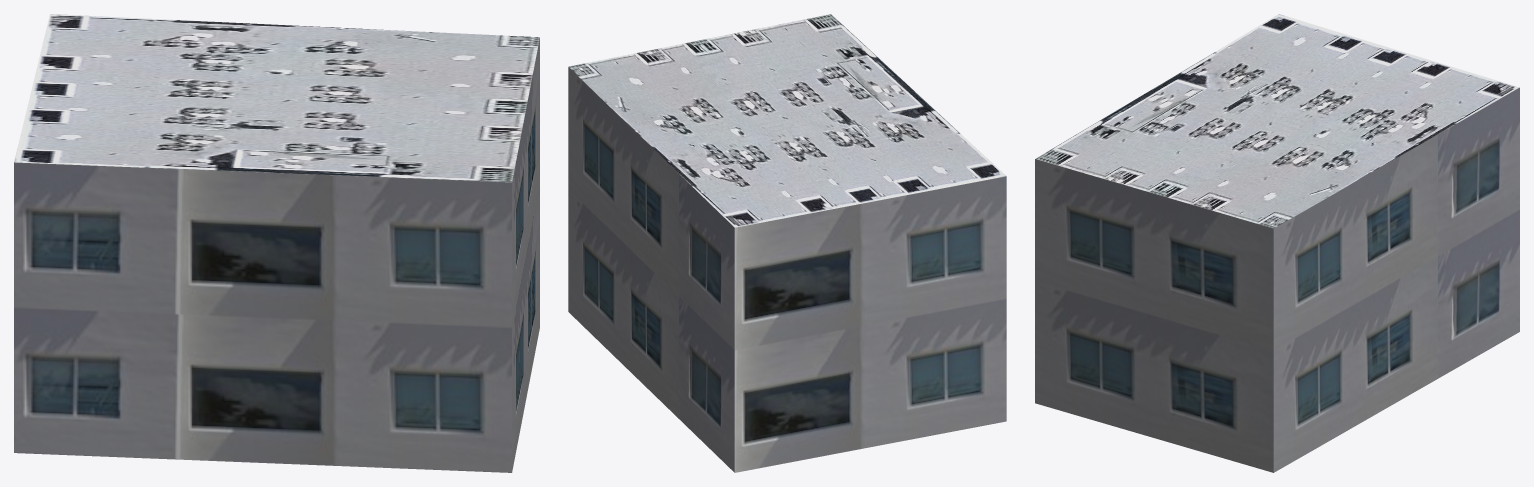
File: ResTex__3907.fbx
3 views of the same model, side by side, from view 1: azimuth 30°, elevation 25°; view 2: azimuth 150°, elevation 25°; view 3: azimuth 270°, elevation 25° (orthographic). The views are drawn at different scales.
Visible parts, largest first — view 1: CityEngineMaterial_10_m, CityEngineMaterial_4_m; view 2: CityEngineMaterial_10_m, CityEngineMaterial_4_m; view 3: CityEngineMaterial_10_m, CityEngineMaterial_4_m.
Part boxes in pixels (x1=…): CityEngineMaterial_10_m: x1=14, y1=38, x2=539, y2=472; CityEngineMaterial_4_m: x1=14, y1=14, x2=539, y2=182; CityEngineMaterial_10_m: x1=568, y1=67, x2=1006, y2=472; CityEngineMaterial_4_m: x1=568, y1=14, x2=1006, y2=227; CityEngineMaterial_10_m: x1=1035, y1=87, x2=1519, y2=472; CityEngineMaterial_4_m: x1=1035, y1=14, x2=1519, y2=228.
Bounding box in the file's own units: 11.3 × 6 × 10.78.
Materials: 2 (2 with a texture image).
